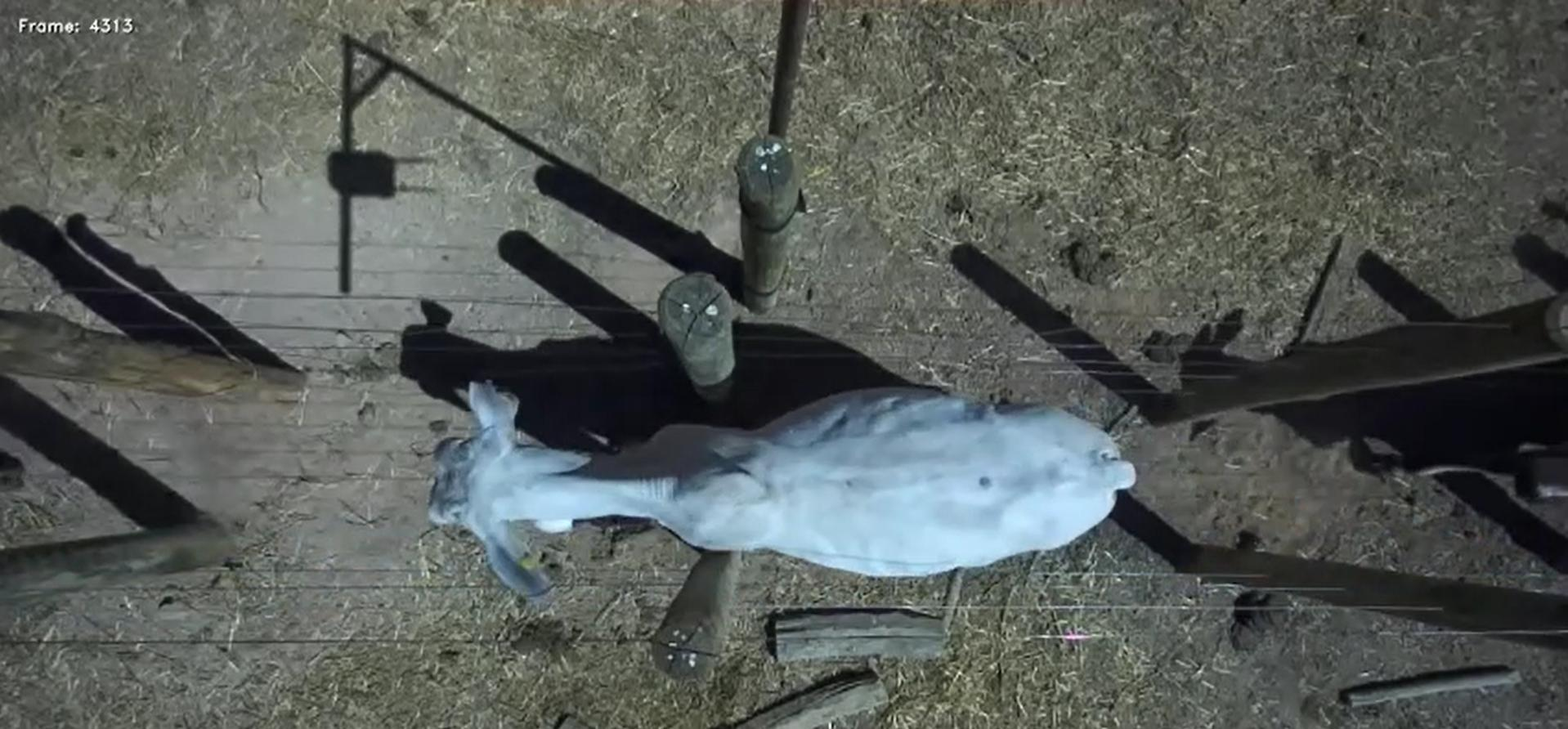cattle: (426, 375, 1138, 608)
